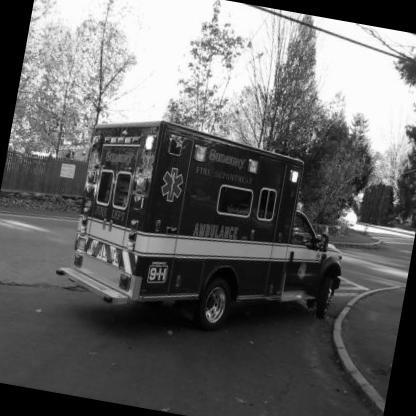ambulance: (42, 84, 391, 376)
